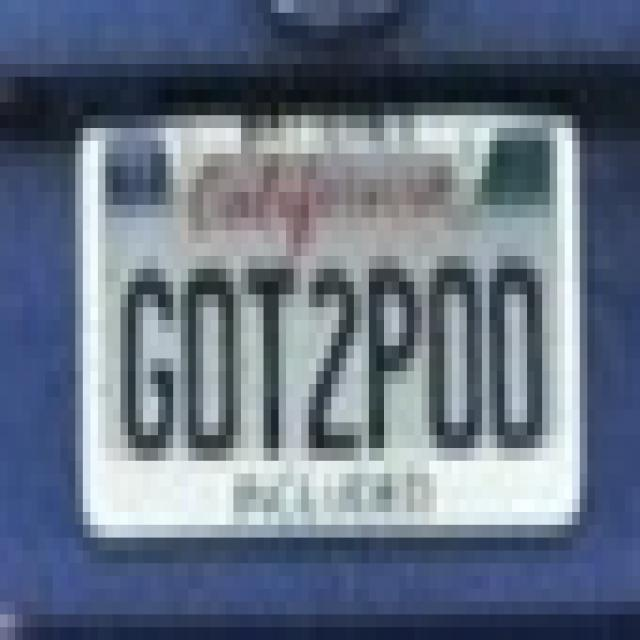0: (482, 239, 552, 474), (423, 235, 483, 470), (177, 256, 243, 467)
G: (114, 254, 180, 468)
P: (358, 243, 421, 462)
T: (246, 255, 304, 472)
